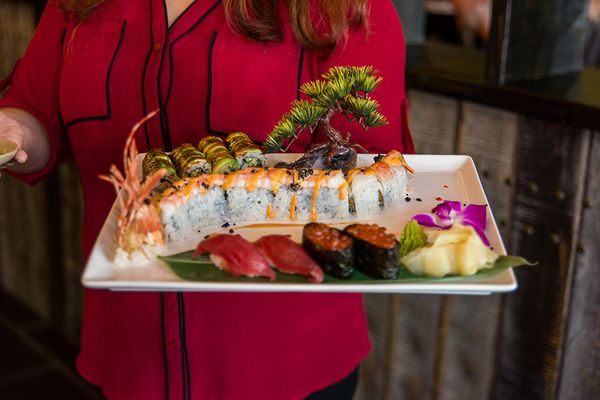curry: (397, 219, 428, 258)
